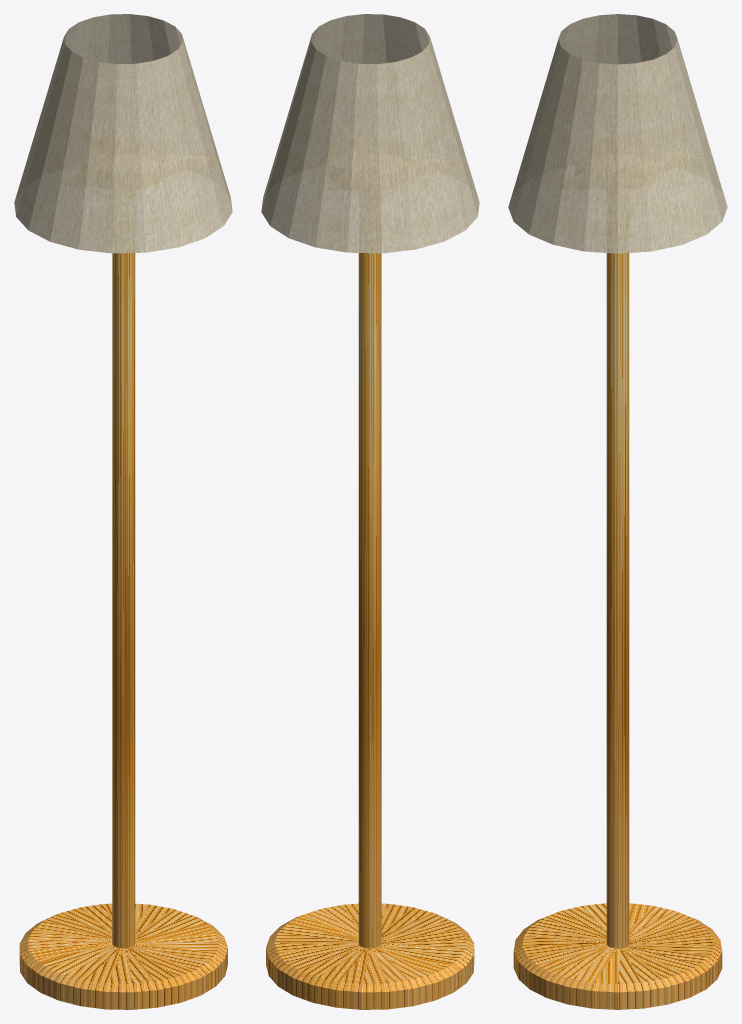
Rendered from Obj_vid_10_lampara_low_poly.fbx.
3 renders of one model, left to right at view 1: azimuth 30°, elevation 25°; view 2: azimuth 150°, elevation 25°; view 3: azimuth 270°, elevation 25°, orthographic.
Visible parts, largest first — view 1: Obj_vid_10_lampara_low_poly; view 2: Obj_vid_10_lampara_low_poly; view 3: Obj_vid_10_lampara_low_poly.
Part boxes in pixels (x1,y1,x2,y2): Obj_vid_10_lampara_low_poly: (14, 14, 232, 1009); Obj_vid_10_lampara_low_poly: (261, 14, 479, 1009); Obj_vid_10_lampara_low_poly: (508, 14, 727, 1009).
Size of the model in its own units: 0.3822 by 1.78 by 0.3822.
